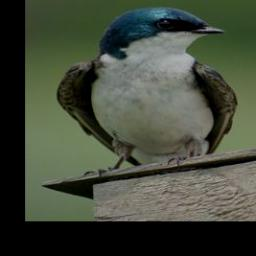Swallow: (56, 5, 240, 178)
